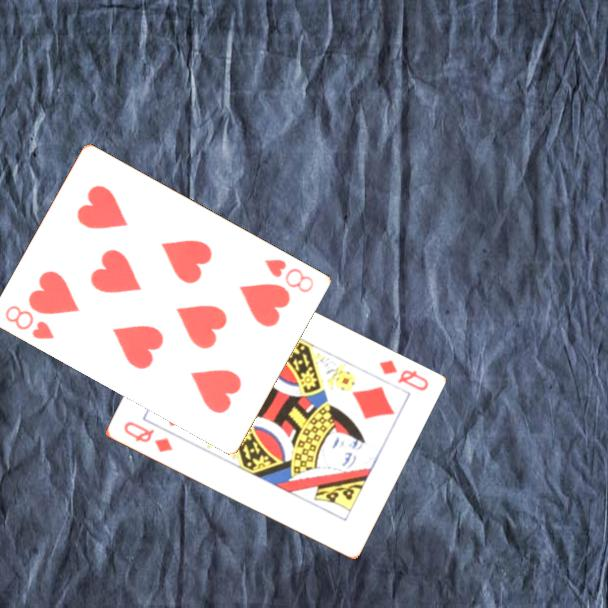d12: (375, 356, 431, 394), (120, 418, 175, 455)
h08: (261, 255, 317, 296), (2, 301, 57, 342)
